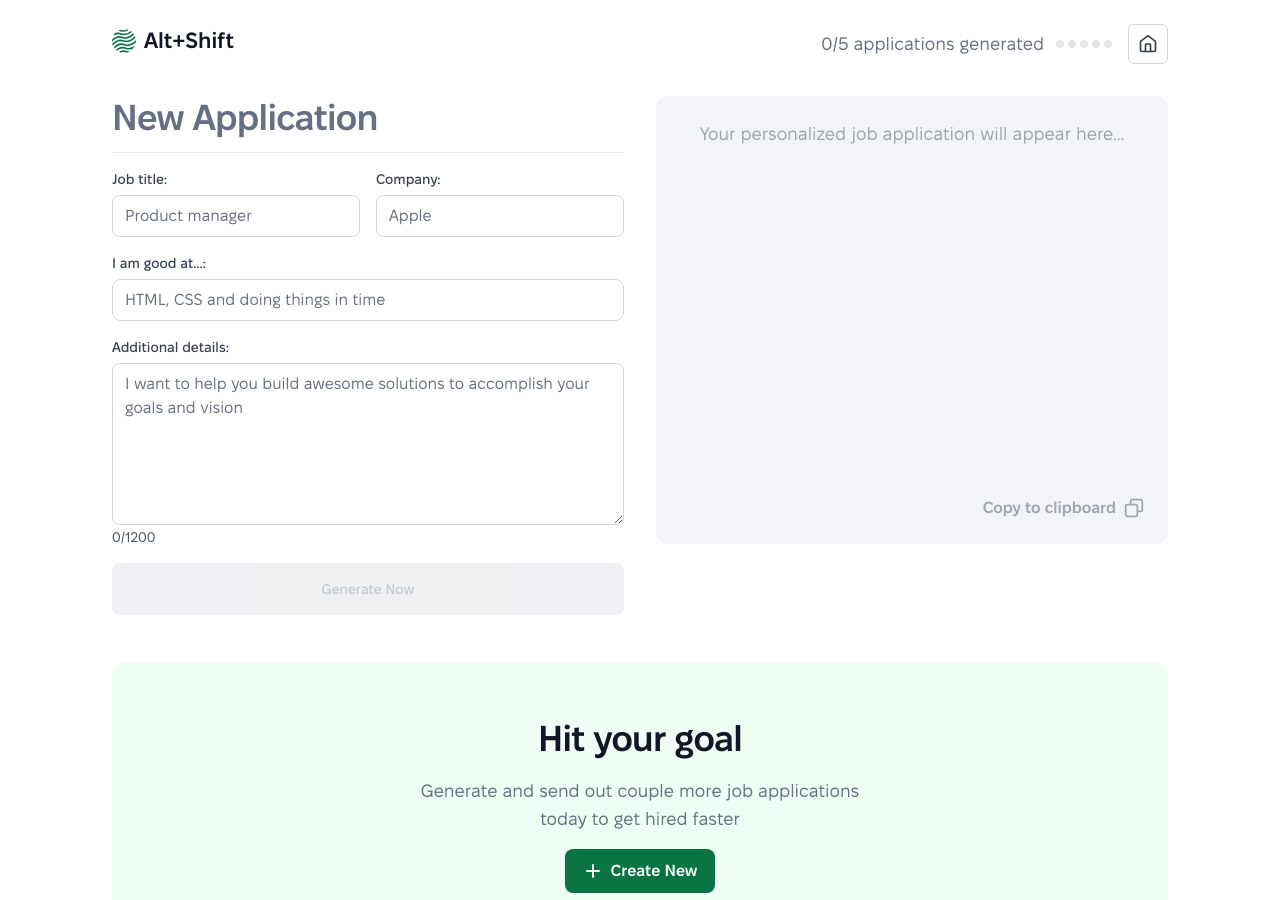
Generator › should enable generate button when form is valid
Type "Developer" into the field labelled "Job title:" at (236, 216), box left=112, top=195, right=360, bottom=237
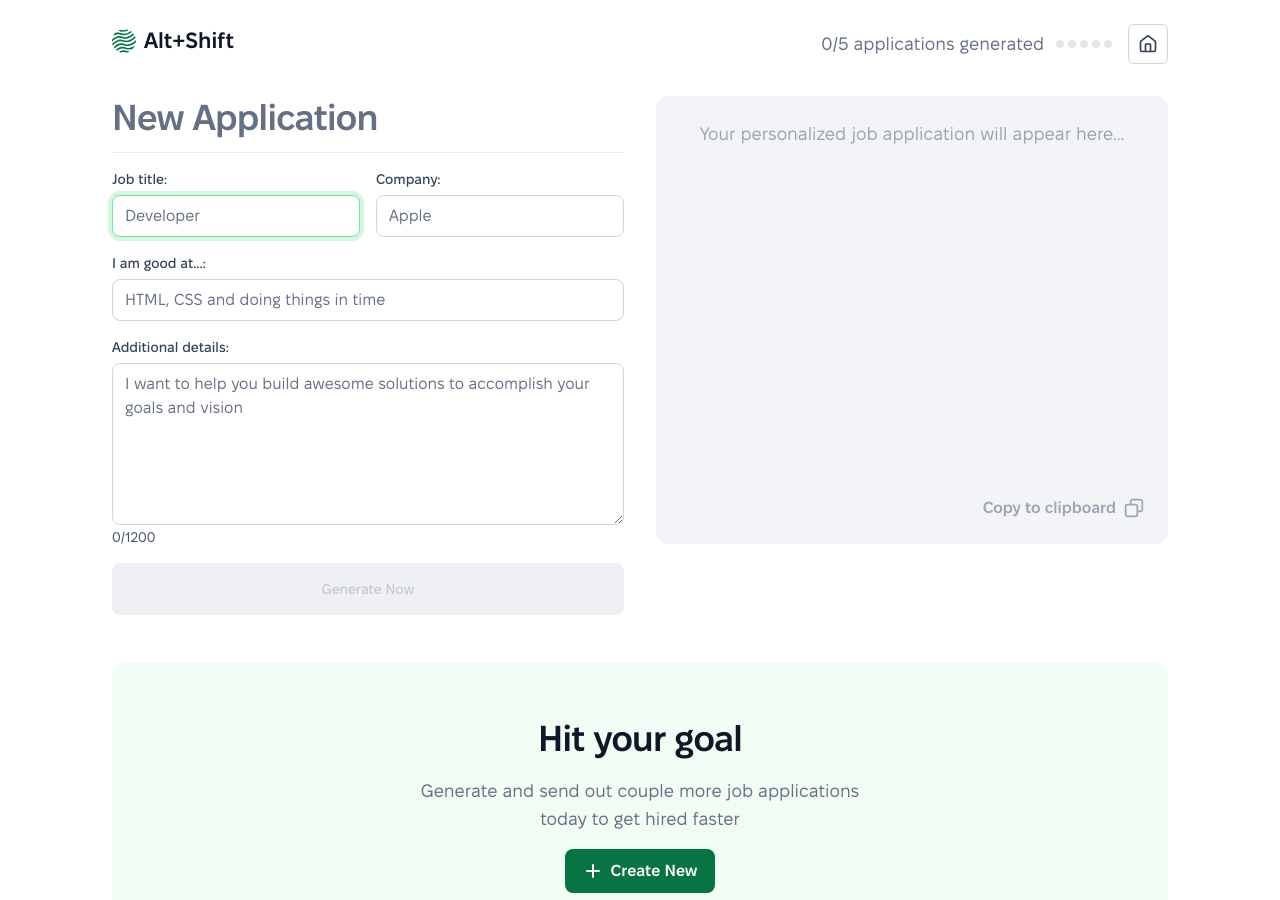
Type "Tech Corp" into the field labelled "Company:" at (500, 216), box left=376, top=195, right=624, bottom=237
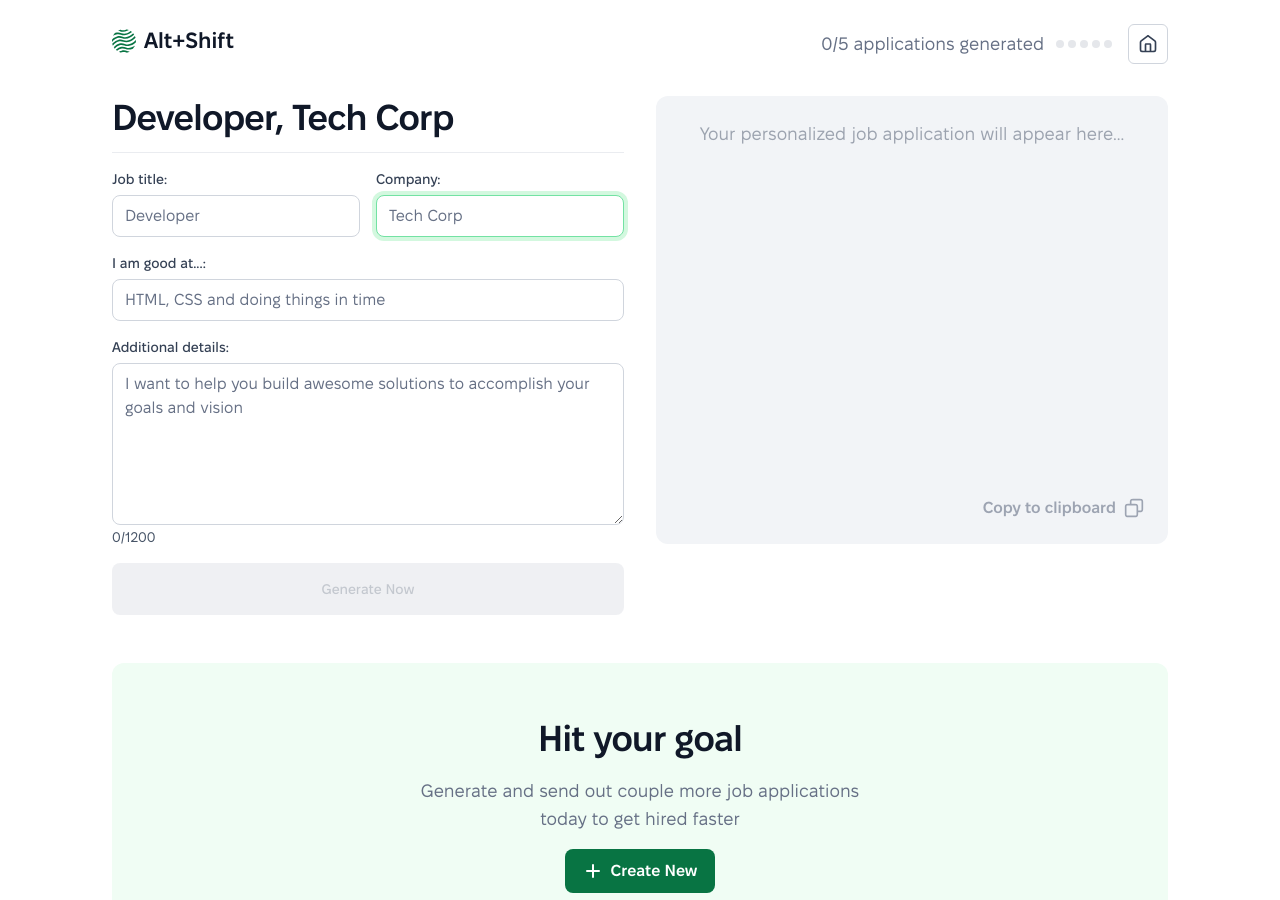
Type "React, TypeScript" into the field labelled "I am good at...:" at (368, 300), box left=112, top=279, right=624, bottom=321
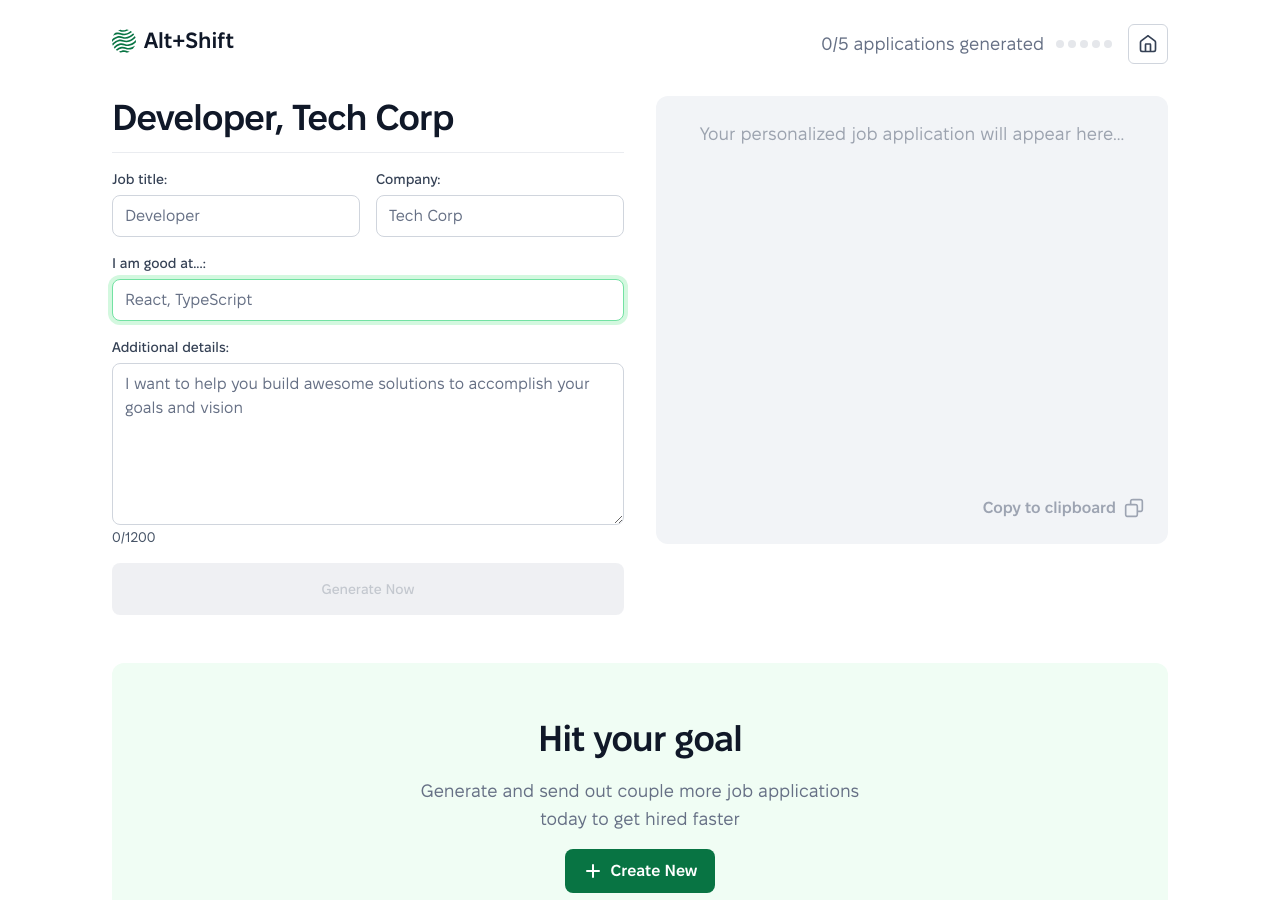
Type "Some details" into the text box labelled "Additional details:" at (368, 444), box left=112, top=363, right=624, bottom=525
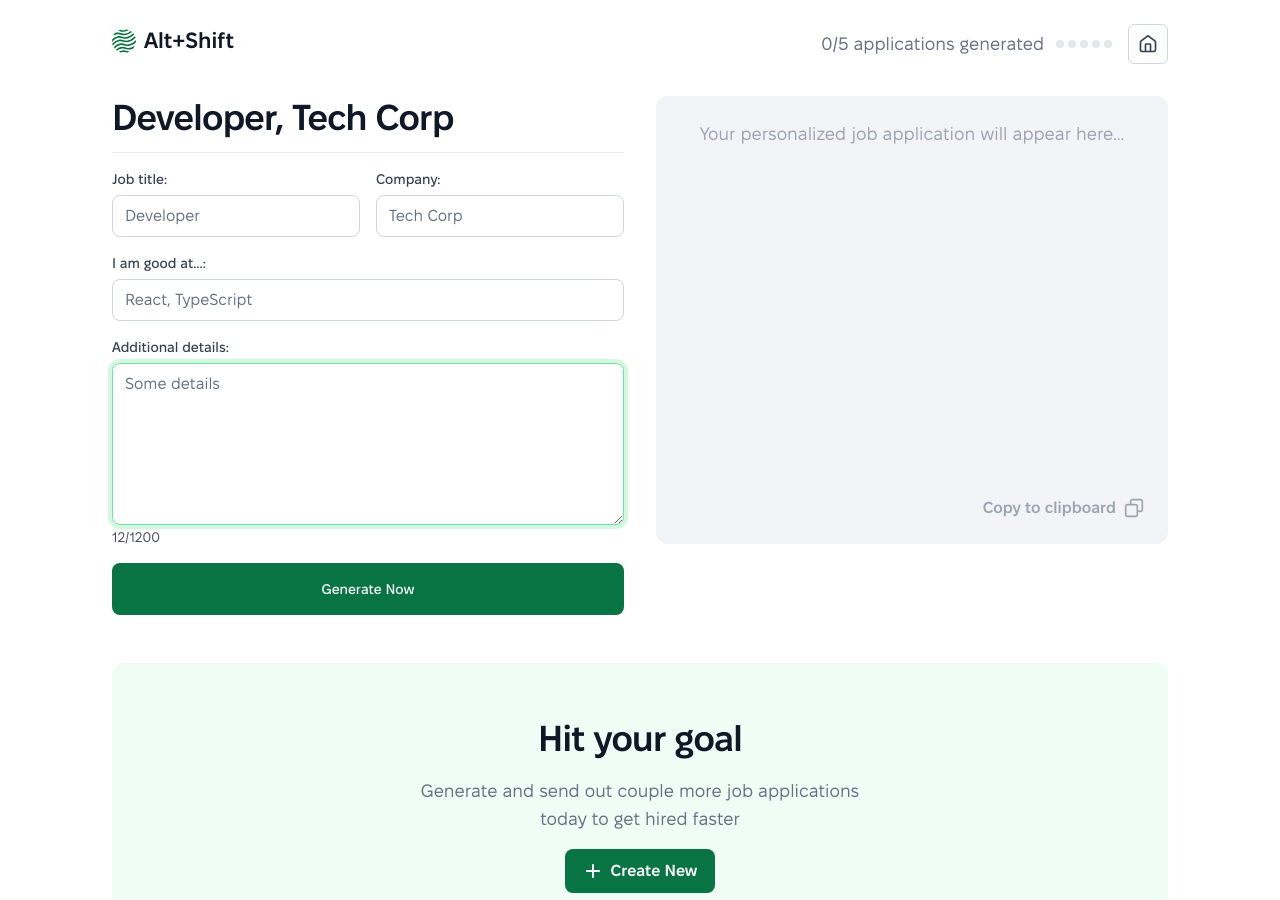
Now the button "Generate Now" is enabled, box left=112, top=563, right=624, bottom=615
